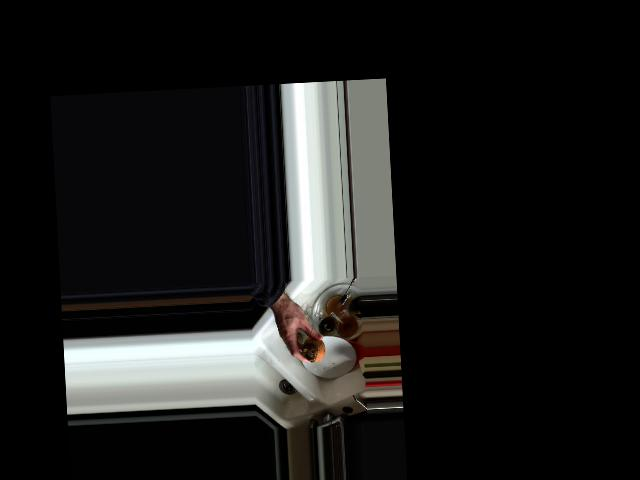sweet_potato: (300, 331, 327, 364)
